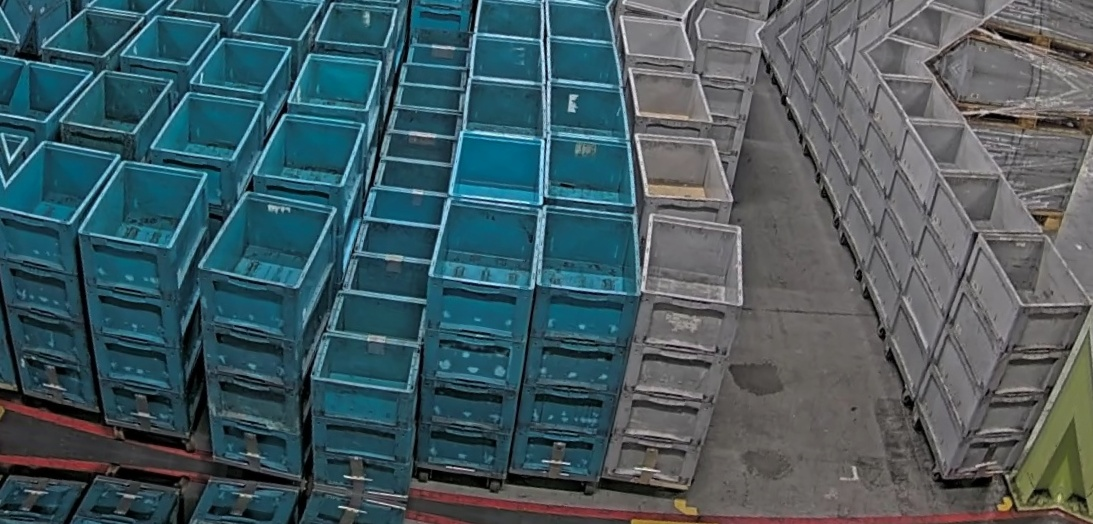4G: (902, 216, 1093, 501), (602, 210, 757, 496)
B4: (48, 148, 245, 440), (164, 184, 354, 477), (394, 192, 551, 479), (499, 200, 653, 487), (0, 136, 142, 410)
B8: (291, 281, 443, 499)
